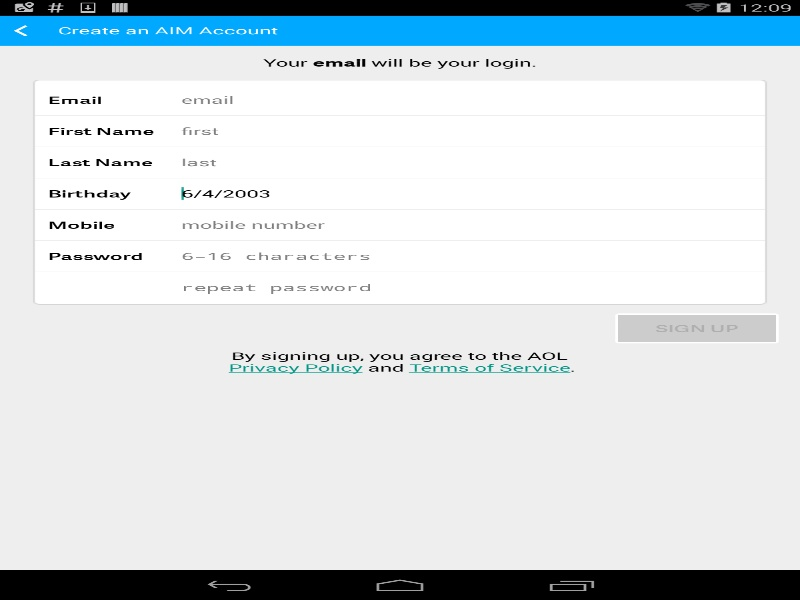Button: (615, 313, 778, 343)
Input: (174, 152, 758, 172), (174, 183, 758, 203), (174, 277, 758, 297), (174, 90, 758, 109), (174, 121, 758, 140), (174, 215, 758, 234), (174, 246, 758, 265)
